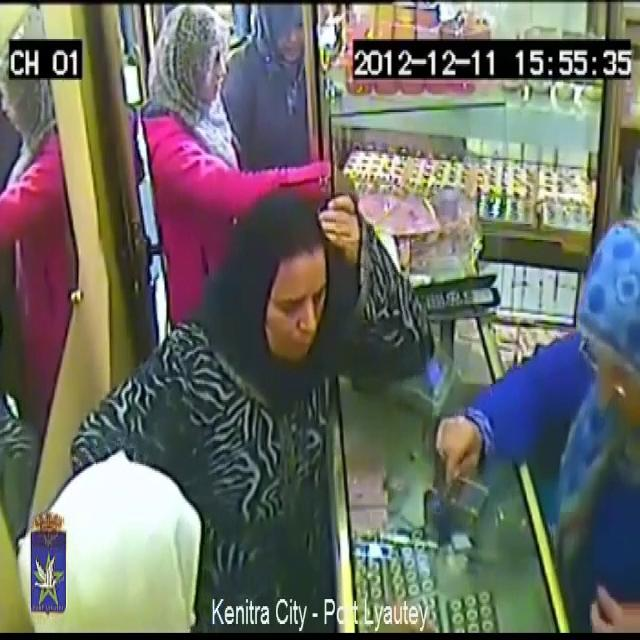normal: (426, 188, 640, 638), (29, 403, 264, 640), (142, 0, 345, 223), (214, 178, 345, 396), (228, 0, 314, 192)
